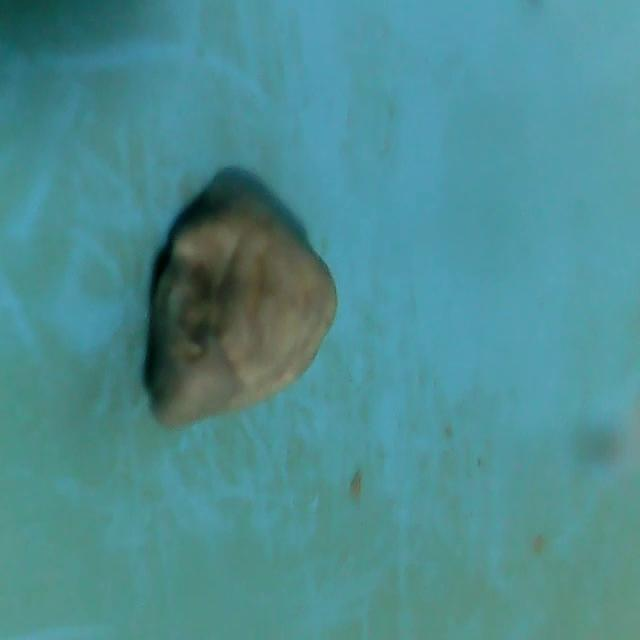rock: (134, 190, 357, 440)
